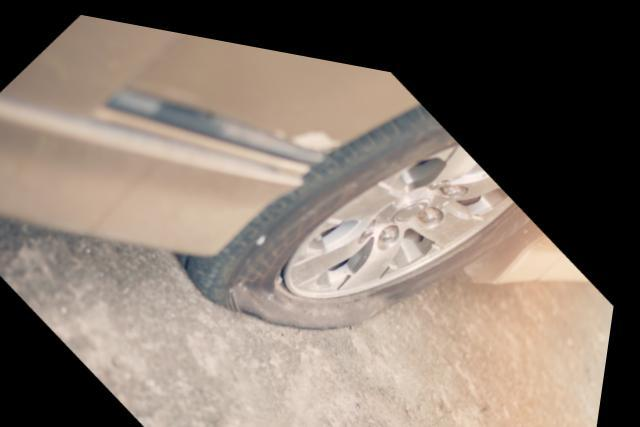tire flat: (183, 88, 536, 318)
